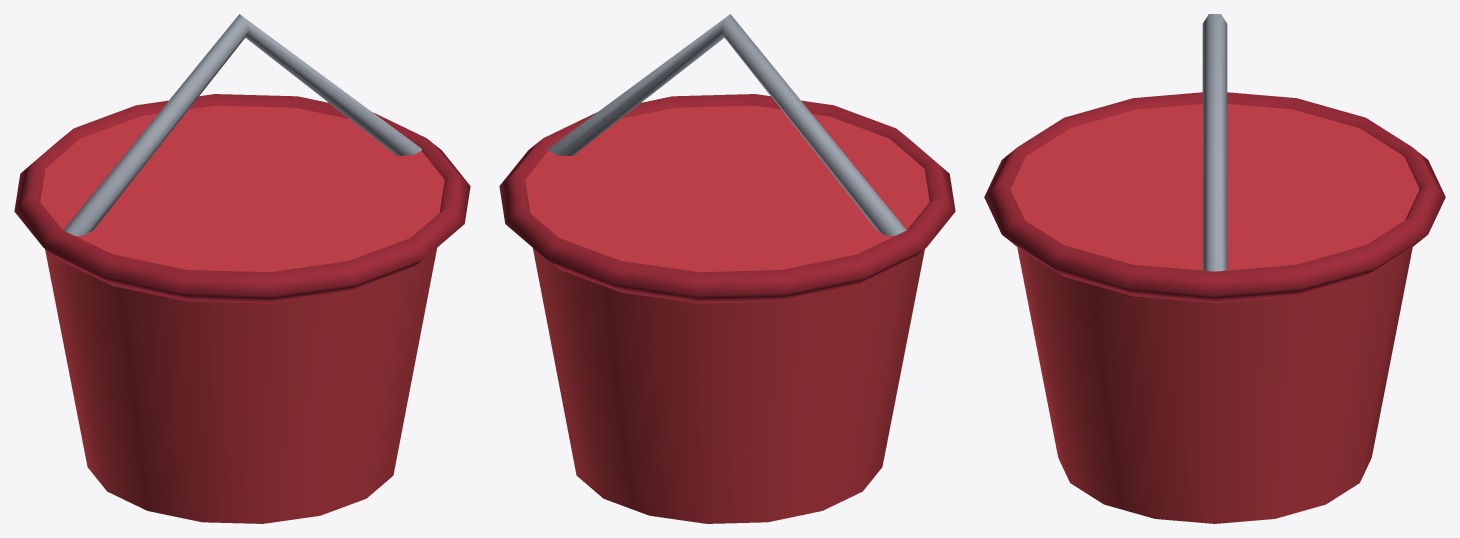
File: red_bucket.glb
3 views of the same model, side by side, from view 1: azimuth 30°, elevation 25°; view 2: azimuth 150°, elevation 25°; view 3: azimuth 270°, elevation 25° (orthographic).
Visible parts, largest first — view 1: root; view 2: root; view 3: root.
Boxes of the visible parts, bbox=[...] form: root: bbox=[14, 14, 470, 523]; root: bbox=[499, 14, 955, 523]; root: bbox=[984, 14, 1445, 523].
Size of the model in its own units: 0.53 by 0.5621 by 0.53.
